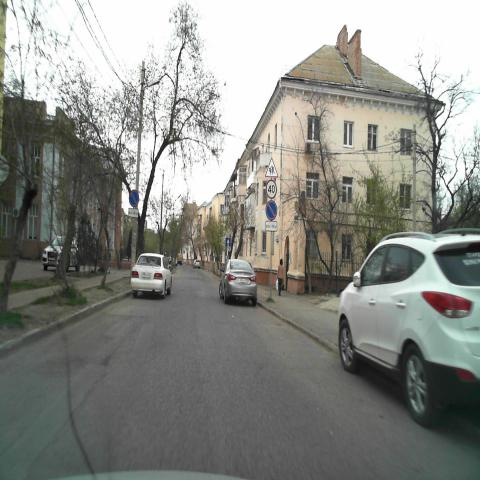3_28: (264, 199, 278, 220)
8_5_4: (265, 219, 277, 231), (128, 207, 138, 217)
